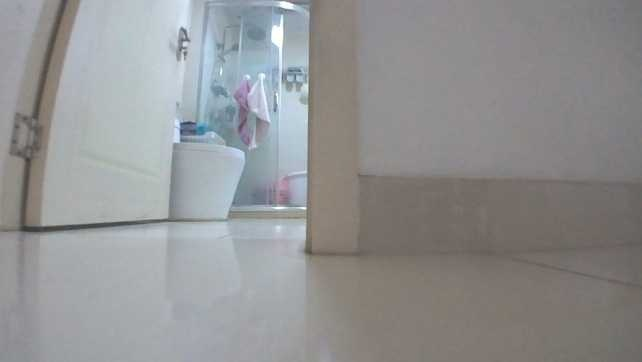door_anno: (1, 1, 194, 231)
toilet: (170, 115, 247, 223)
